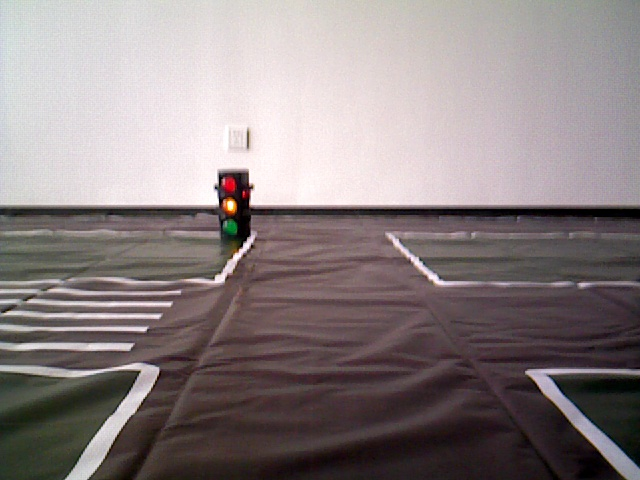yellow: (216, 168, 251, 246)
